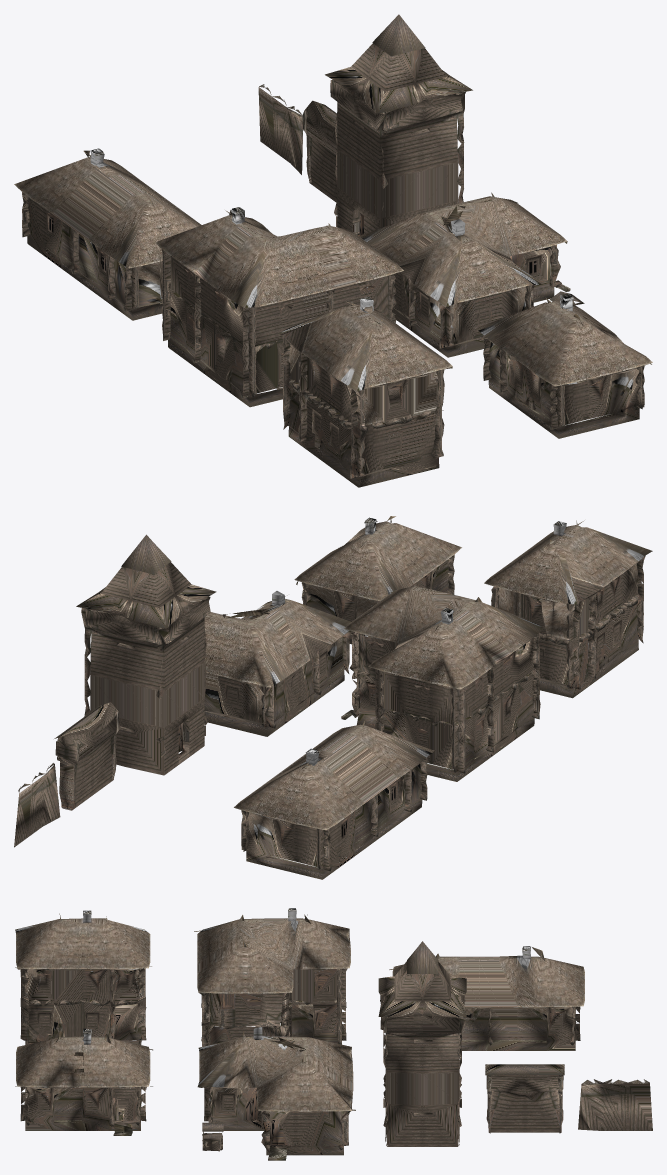
File: log.glb
3 views of the same model, one above another, from view 1: azimuth 30°, elevation 25°; view 2: azimuth 150°, elevation 25°; view 3: azimuth 270°, elevation 25° (orthographic). The views are drawn at different scales.
Parts seen in each view (by area): view 1: House_5, House_4, Object005_Mat_city_0, House_2, House_3, House_1, Wall_tip_A, Object006_Mat_city_0; view 2: House_5, Object005_Mat_city_0, House_3, House_4, House_2, House_1, Wall_tip_A, Object006_Mat_city_0; view 3: House_5, House_2, House_4, Object005_Mat_city_0, House_1, House_3, Wall_tip_A, Object006_Mat_city_0, well.
Part boxes in pixels (left/top/right/bottom): House_5: left=155, top=207, right=405, bottom=407; House_4: left=279, top=297, right=452, bottom=487; Object005_Mat_city_0: left=325, top=14, right=472, bottom=235; House_2: left=359, top=192, right=570, bottom=357; House_3: left=14, top=148, right=201, bottom=320; House_1: left=475, top=293, right=652, bottom=438; Wall_tip_A: left=302, top=100, right=337, bottom=202; Object006_Mat_city_0: left=258, top=84, right=303, bottom=174; House_5: left=341, top=583, right=547, bottom=781; Object005_Mat_city_0: left=76, top=534, right=216, bottom=775; House_3: left=234, top=721, right=434, bottom=879; House_4: left=484, top=520, right=652, bottom=698; House_2: left=204, top=591, right=351, bottom=736; House_1: left=294, top=516, right=461, bottom=644; Wall_tip_A: left=54, top=702, right=120, bottom=810; Object006_Mat_city_0: left=14, top=763, right=60, bottom=847; House_5: left=194, top=908, right=350, bottom=1046; House_2: left=197, top=1026, right=355, bottom=1160; House_4: left=15, top=910, right=151, bottom=1044; Object005_Mat_city_0: left=378, top=941, right=466, bottom=1146; House_1: left=15, top=1028, right=152, bottom=1135; House_3: left=389, top=946, right=584, bottom=1050; Wall_tip_A: left=485, top=1064, right=564, bottom=1133; Object006_Mat_city_0: left=578, top=1079, right=652, bottom=1130; well: left=202, top=1122, right=223, bottom=1151.
Size of the model in its own units: 3054 by 1814 by 5538.
1 material, 1 textured.
